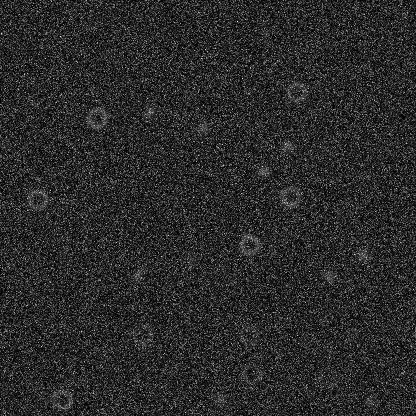Ring: (84, 105, 108, 129), (284, 79, 308, 103), (50, 387, 74, 411), (237, 323, 261, 347), (239, 361, 263, 385), (129, 321, 153, 345), (278, 184, 302, 208), (315, 365, 339, 389), (237, 232, 261, 256), (25, 187, 49, 211)
Spot: (354, 246, 370, 262), (130, 267, 146, 283), (194, 119, 210, 135), (279, 138, 295, 154), (321, 269, 337, 285), (343, 328, 359, 344), (312, 140, 328, 156), (183, 251, 199, 267), (361, 392, 377, 408), (255, 162, 271, 178), (216, 243, 232, 259), (76, 215, 92, 231), (101, 49, 117, 65), (211, 391, 227, 407), (80, 18, 96, 34), (56, 240, 72, 256), (142, 103, 158, 119)
